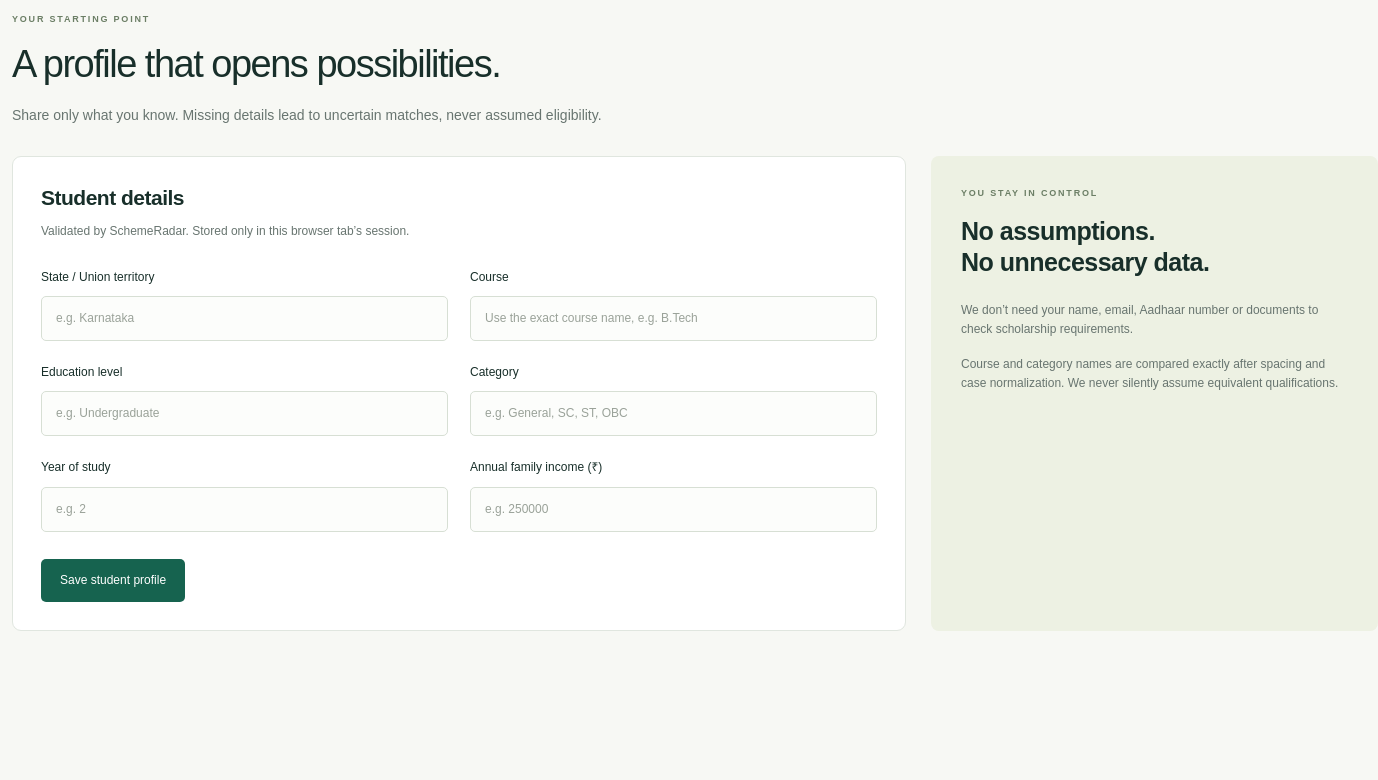
Test: Student-facing forms › submits typed profile data to FastAPI
The image size is (1378, 780).
Type "Karnataka" into the field labelled "State / Union territory".
click(244, 318); type("Karnataka")  # box x1=41 y1=296 x2=448 y2=341
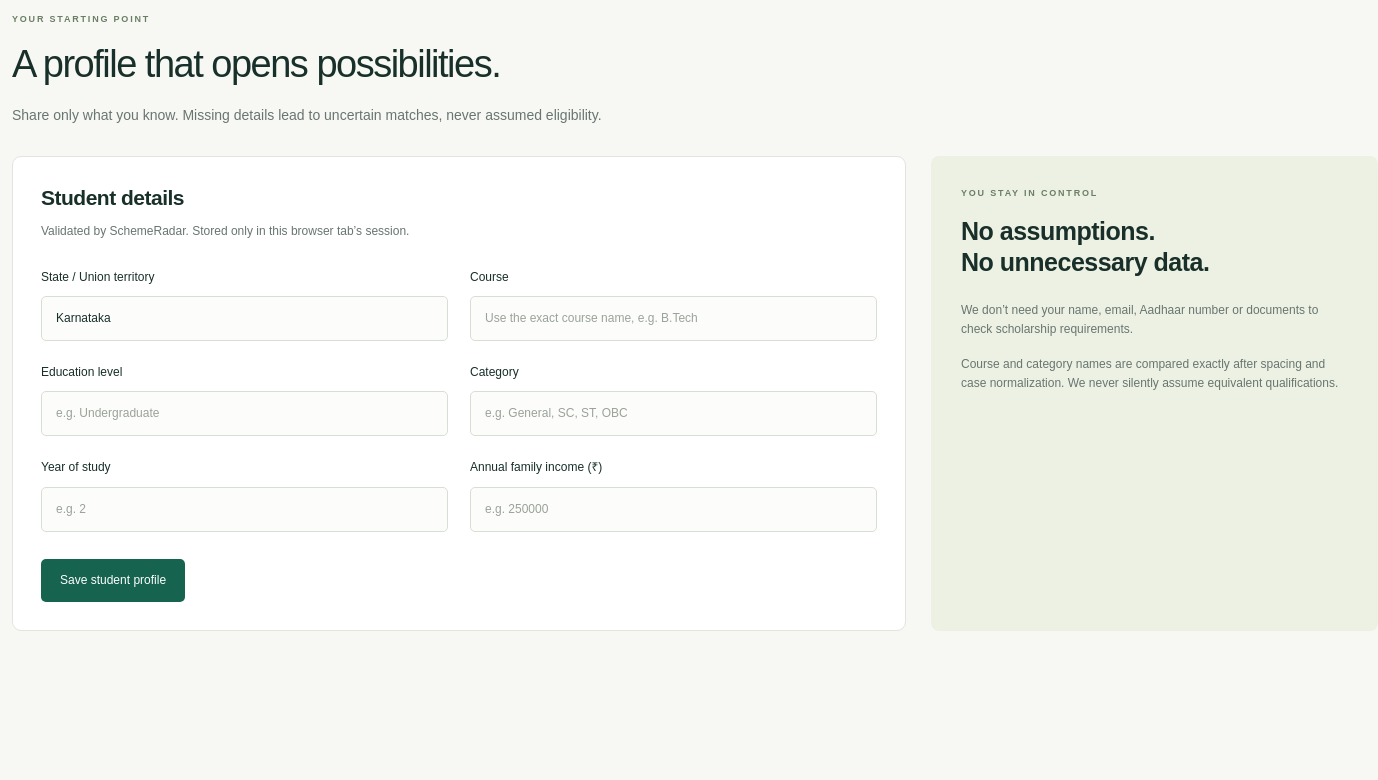
Type "B.Tech" into the field labelled "Course".
click(674, 318); type("B.Tech")  # box x1=470 y1=296 x2=877 y2=341
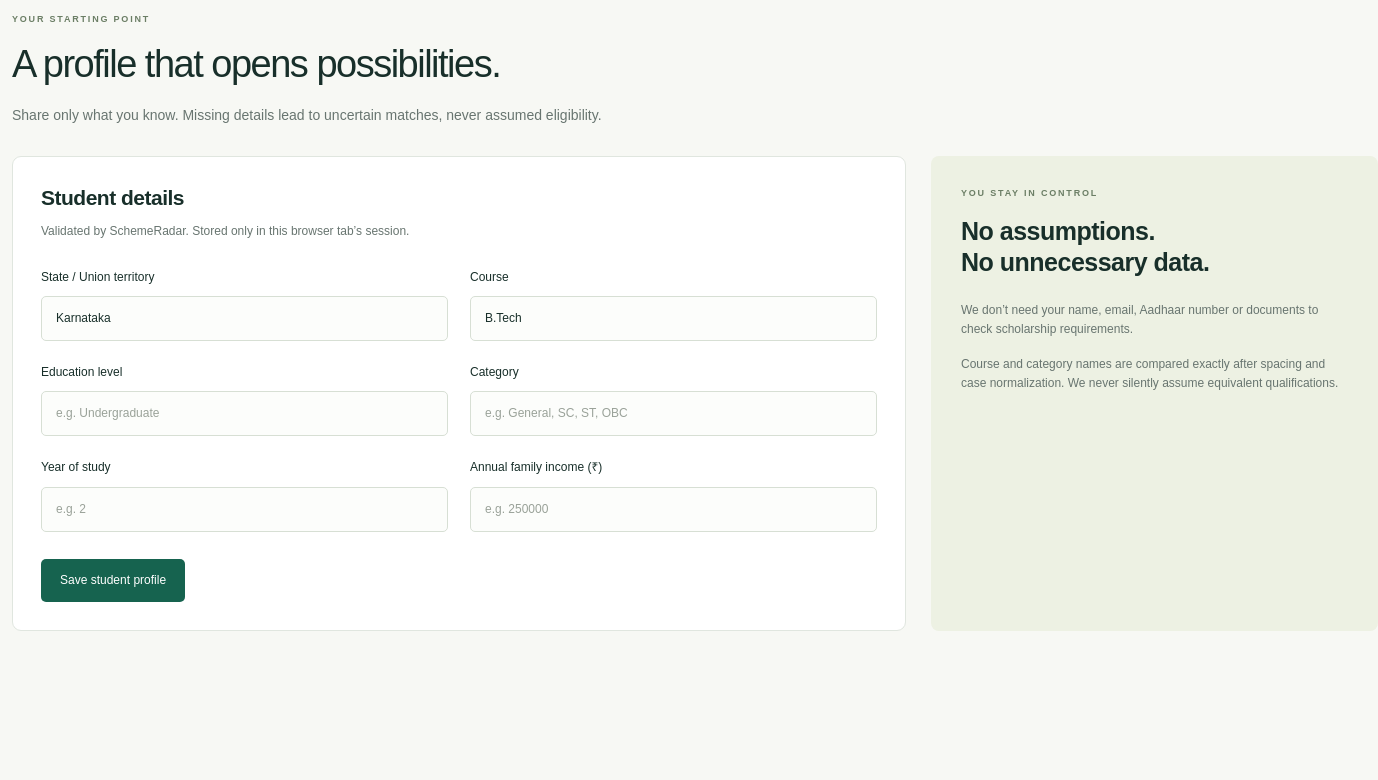
Type "2" into the number field labelled "Year of study".
click(244, 509); type("2")  # box x1=41 y1=487 x2=448 y2=532
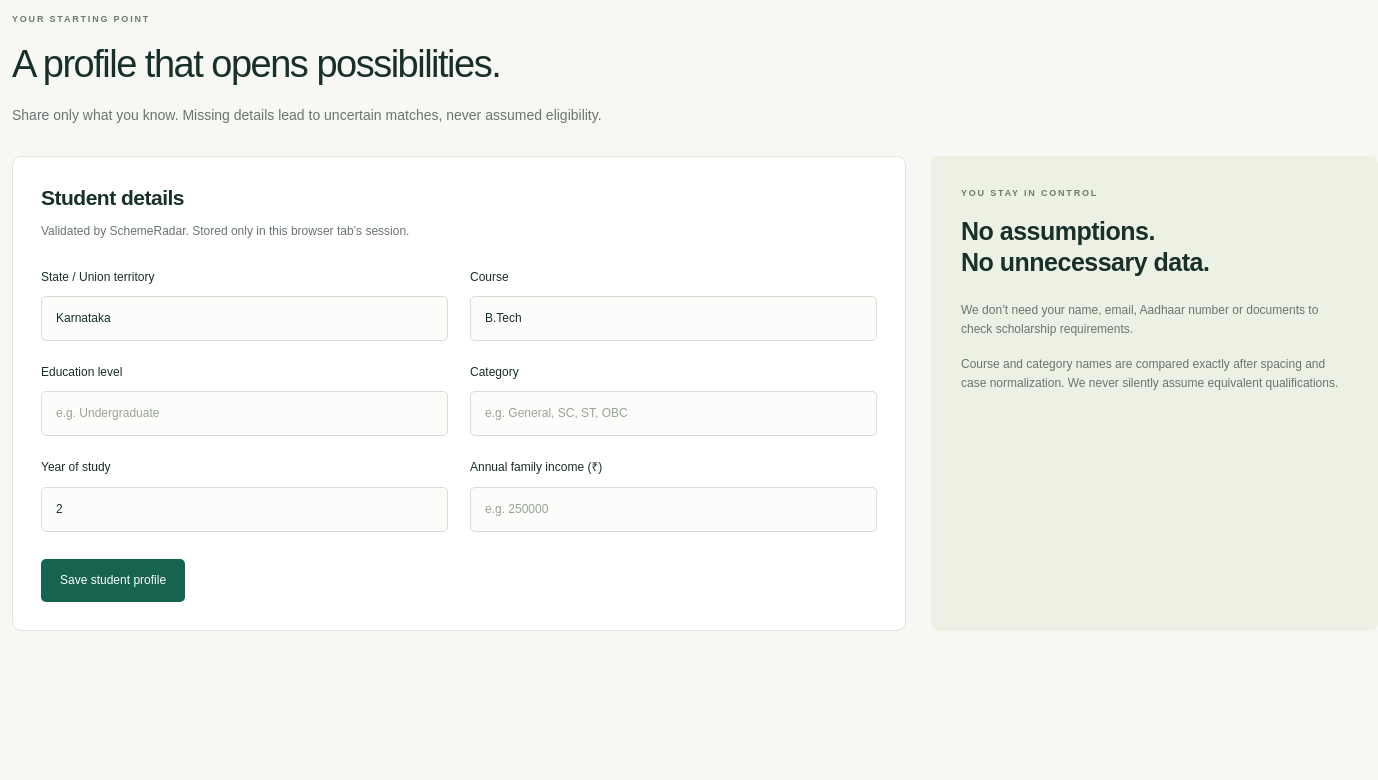
Type "250000" into the number field labelled "Annual family income (₹)".
click(674, 509); type("250000")  # box x1=470 y1=487 x2=877 y2=532
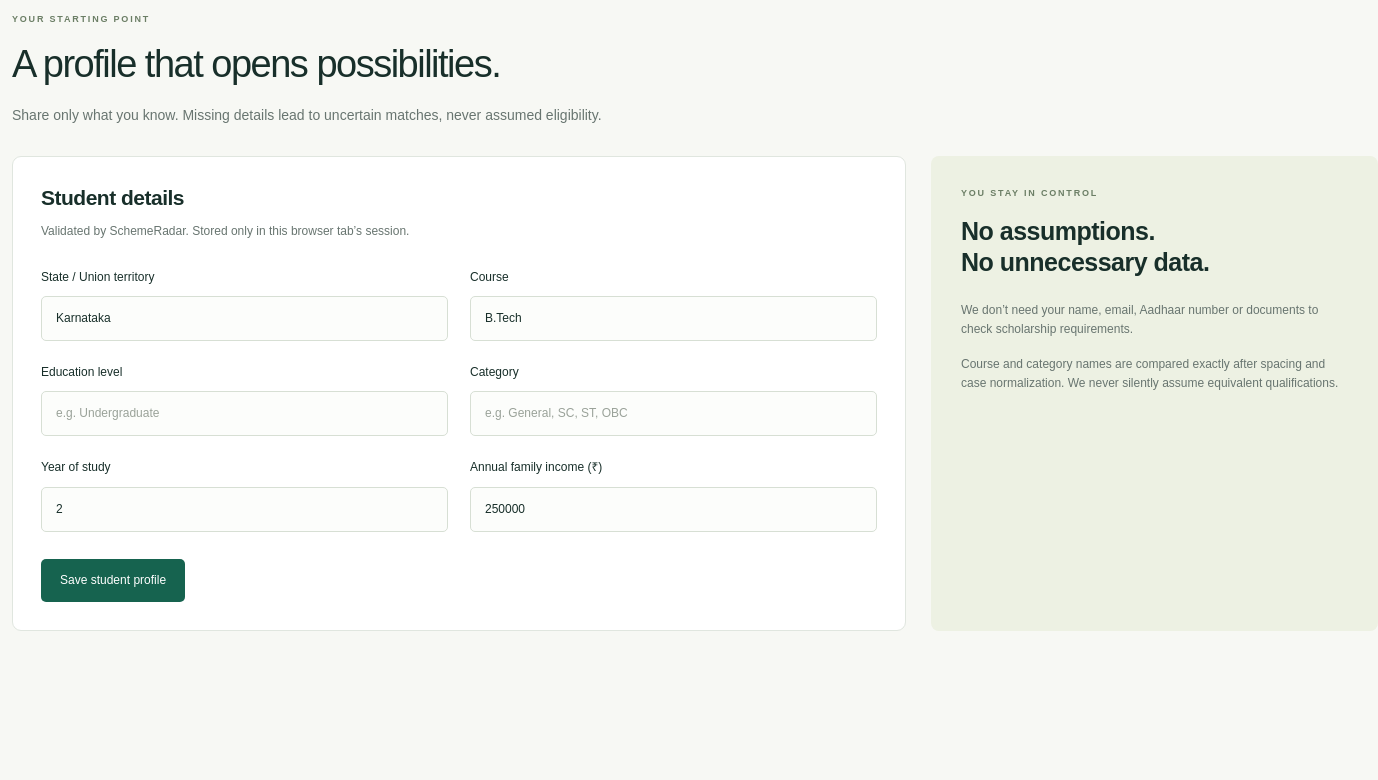
Click the button "Save student profile".
click(113, 580)  # box x1=41 y1=559 x2=185 y2=602
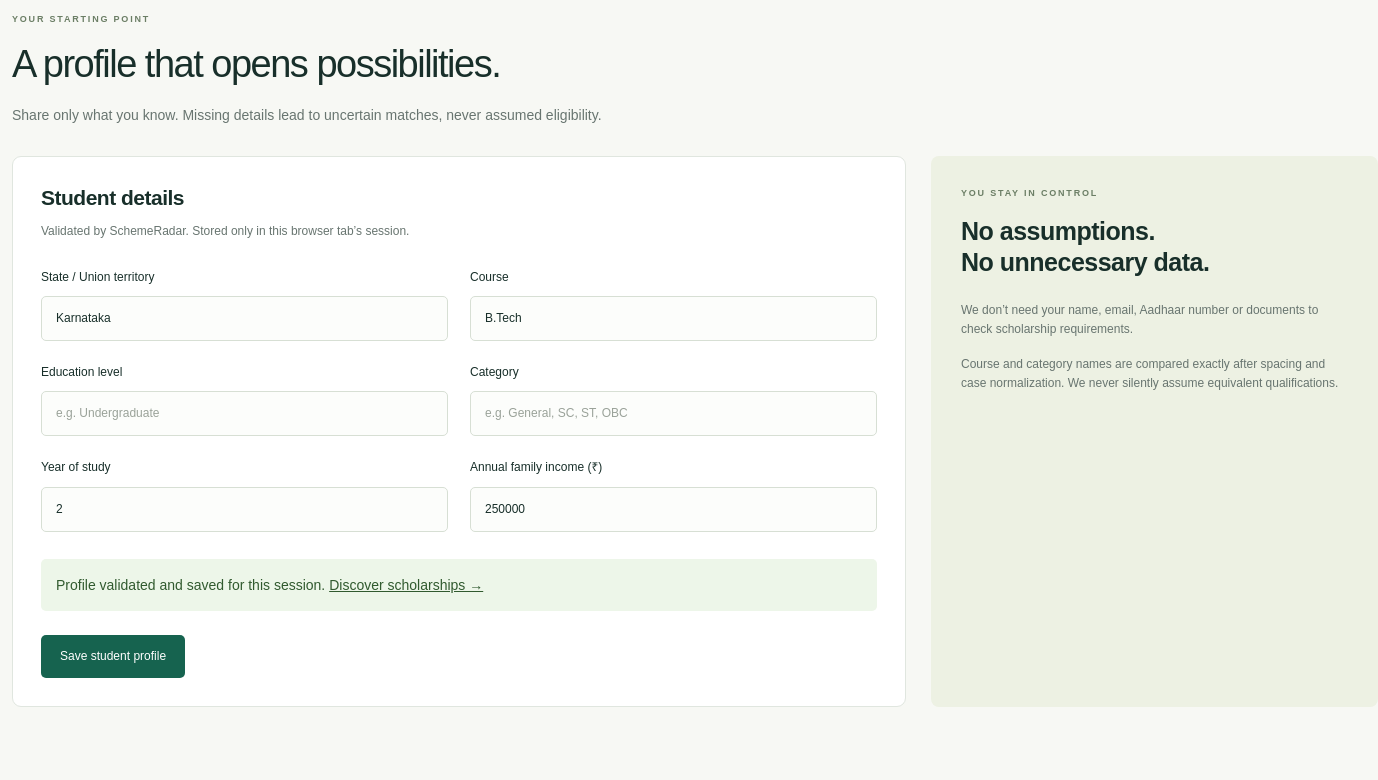
Expected: the message shows "validated", x1=56 y1=577 x2=329 y2=593
